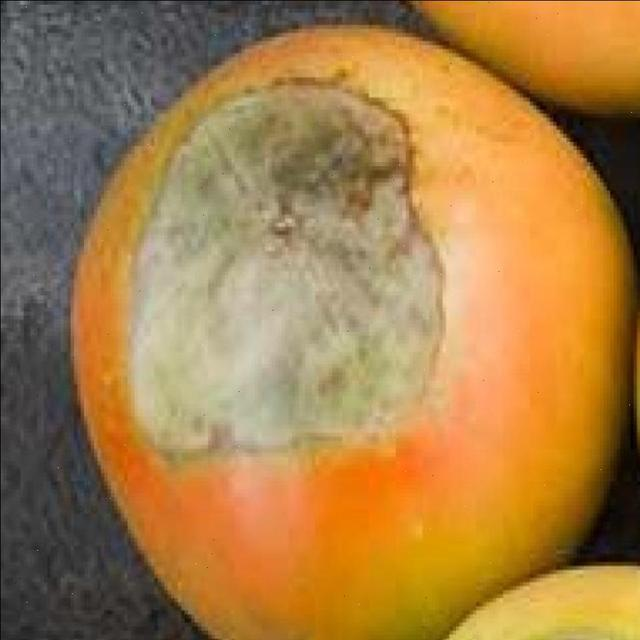Sunscald Fruit: (82, 48, 297, 310)
